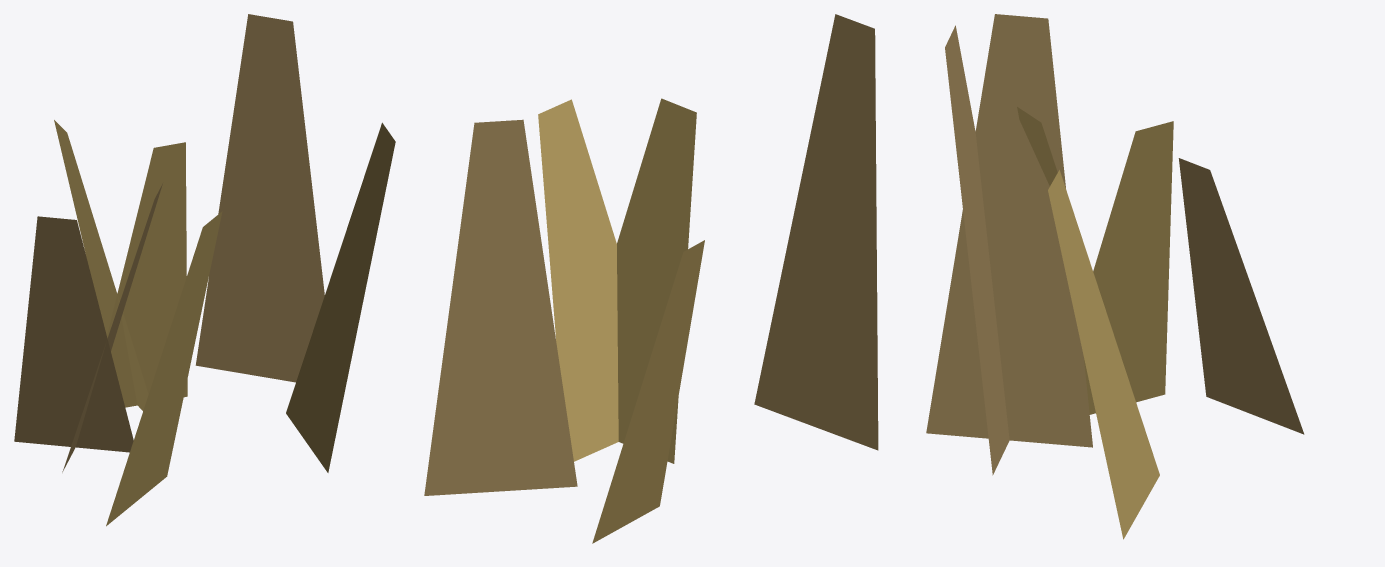
File: shrub.temp.fern__autumn.glb
The picture shows the model from 3 angles, left to right: view 1: azimuth 30°, elevation 25°; view 2: azimuth 150°, elevation 25°; view 3: azimuth 270°, elevation 25°; orthographic projection. The views are drawn at different scales.
Parts seen in each view (by area): view 1: shrub.temp.fern__autumn; view 2: shrub.temp.fern__autumn; view 3: shrub.temp.fern__autumn.
Boxes of the visible parts, x1=… form: shrub.temp.fern__autumn: x1=14, y1=14, x2=395, y2=526; shrub.temp.fern__autumn: x1=424, y1=14, x2=878, y2=543; shrub.temp.fern__autumn: x1=926, y1=14, x2=1304, y2=539.
Size of the model in its own units: 0.909 by 0.9974 by 1.01.
